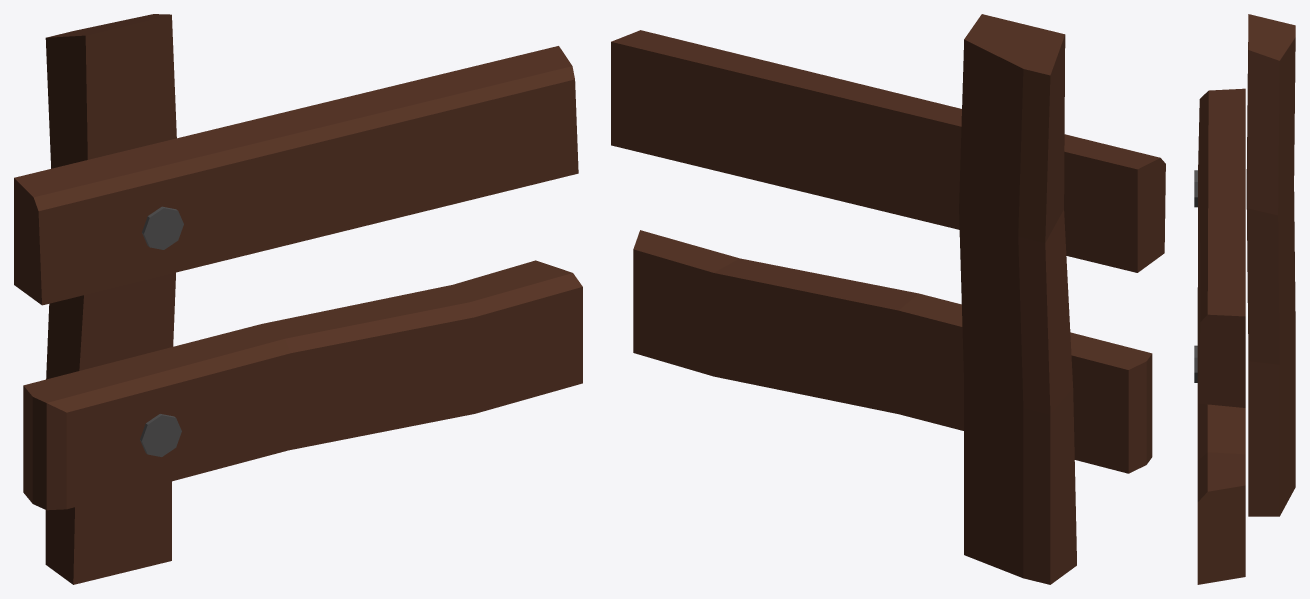
The model's file is fence.fbx.
3 views of the same model, side by side, from view 1: azimuth 30°, elevation 25°; view 2: azimuth 150°, elevation 25°; view 3: azimuth 270°, elevation 25° (orthographic). The views are drawn at different scales.
Parts seen in each view (by area): view 1: Fence; view 2: Fence; view 3: Fence.
Part boxes in pixels (<box>): Fence: <box>14,14,582,584</box>; Fence: <box>611,14,1165,584</box>; Fence: <box>1194,14,1295,584</box>.
Size of the model in its own units: 523 by 499 by 98.15.
